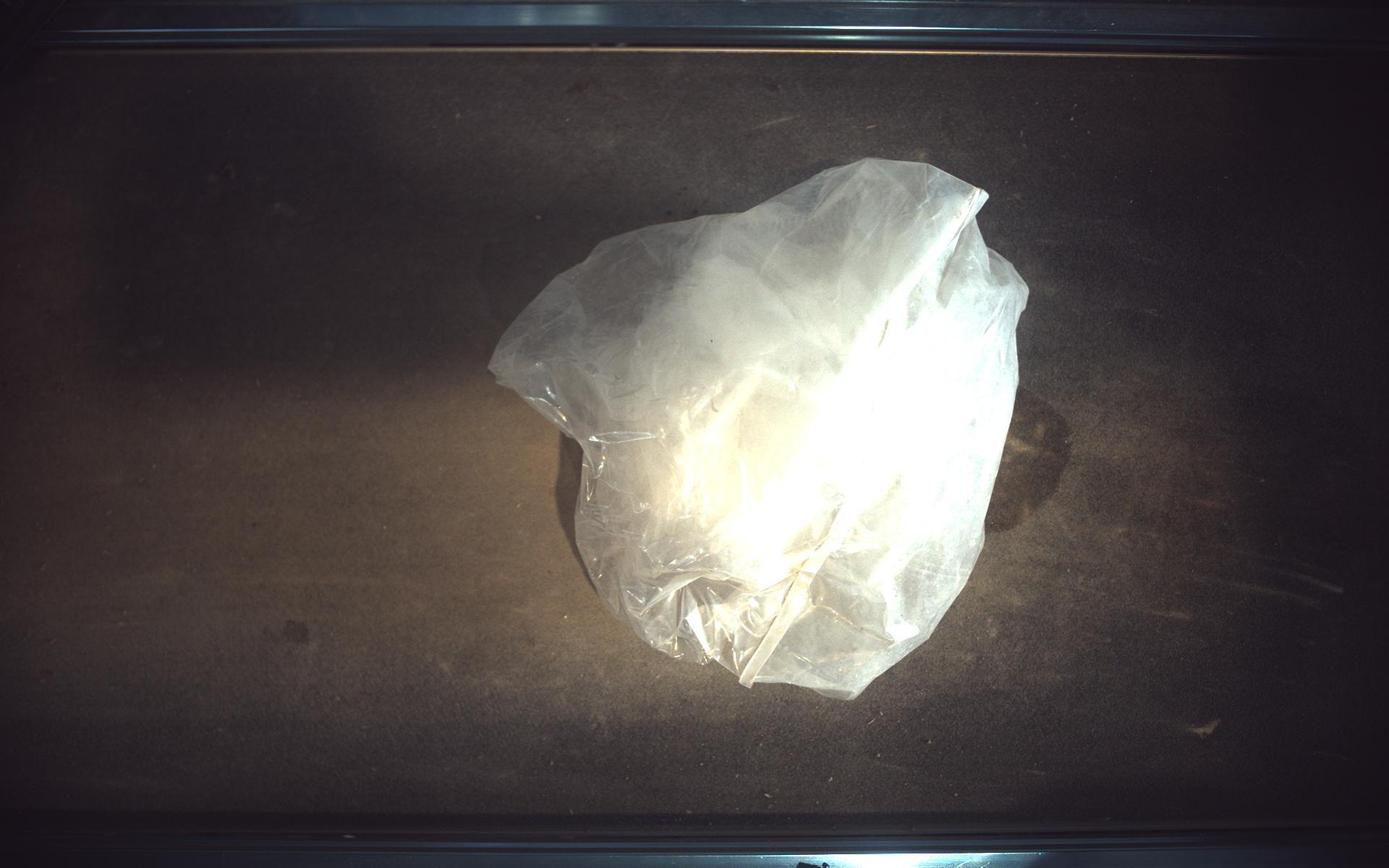general_w: (490, 158, 1030, 700)
